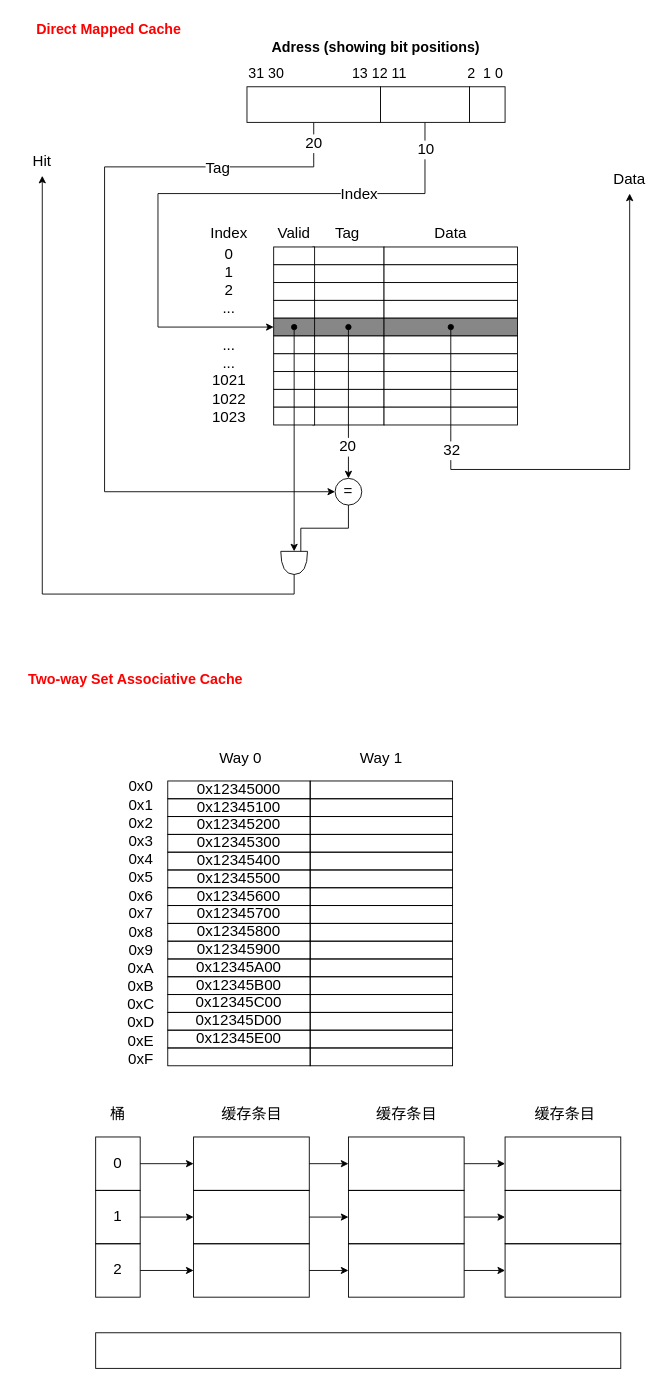
Some shapes in this 671 by 1384 pixel diagram are drawn without their labels. The shapes that lost their labels are listed below. From the top down, each one's centre as x and y in pixels, then its label:
At point (313, 104): "12-31 20 byte".
At point (424, 104): "2-11 10 byte".
At point (487, 104): "Byte offset".
At point (358, 1350): "缓存条目包含：Tag、Data Block、Flag".
